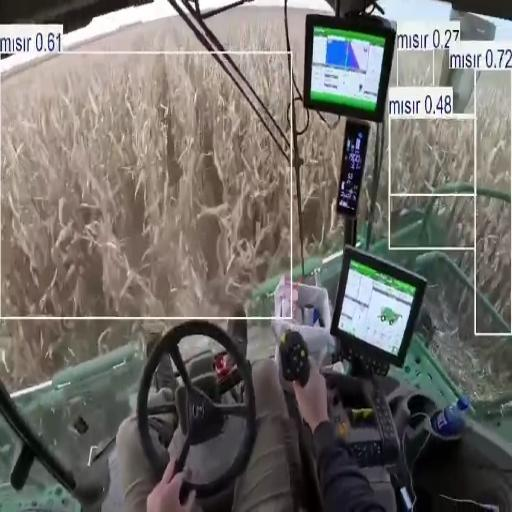misir: (1, 56, 290, 314), (389, 73, 510, 192), (0, 321, 113, 385), (299, 114, 344, 254), (476, 196, 511, 320), (211, 9, 284, 48), (397, 52, 432, 85)
